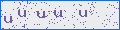u: (79, 10, 87, 18), (4, 16, 12, 24), (54, 10, 62, 17), (37, 11, 45, 18), (18, 10, 26, 17)
